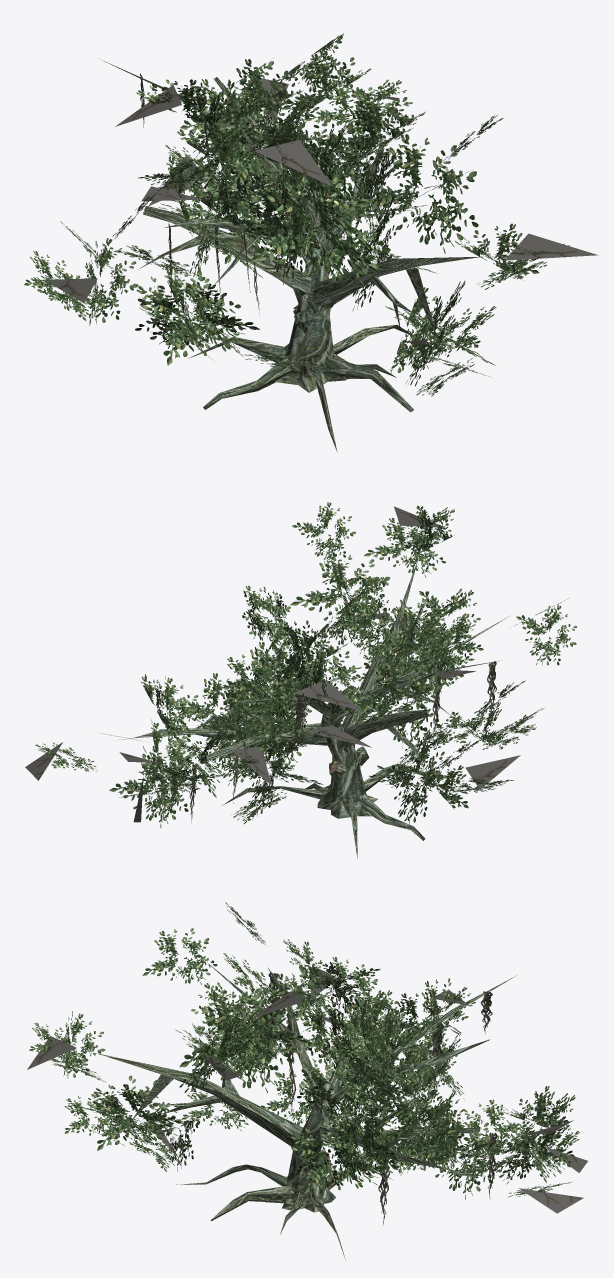
Rendered from tree03.FBX.
The picture shows the model from 3 angles, top to bottom: view 1: azimuth 30°, elevation 25°; view 2: azimuth 150°, elevation 25°; view 3: azimuth 270°, elevation 25°; orthographic projection. The views are drawn at different scales.
Visible parts, largest first — view 1: objmesh_SampleLeaves_022, objmesh_dashu022, objmesh_Branches_012, objmesh_Vines_022; view 2: objmesh_SampleLeaves_022, objmesh_dashu022, objmesh_Branches_012, objmesh_Vines_022; view 3: objmesh_SampleLeaves_022, objmesh_dashu022, objmesh_Branches_012, objmesh_Vines_022.
Part boxes in pixels (left/top/right/bottom): objmesh_SampleLeaves_022: left=24, top=33, right=569, bottom=396; objmesh_dashu022: left=98, top=58, right=482, bottom=452; objmesh_Branches_012: left=45, top=78, right=598, bottom=351; objmesh_Vines_022: left=140, top=73, right=355, bottom=315; objmesh_SampleLeaves_022: left=35, top=502, right=576, bottom=827; objmesh_dashu022: left=117, top=559, right=508, bottom=858; objmesh_Branches_012: left=25, top=506, right=520, bottom=822; objmesh_Vines_022: left=170, top=659, right=496, bottom=823; objmesh_SampleLeaves_022: left=29, top=902, right=579, bottom=1199; objmesh_dashu022: left=96, top=962, right=516, bottom=1260; objmesh_Branches_012: left=27, top=965, right=587, bottom=1213; objmesh_Vines_022: left=262, top=972, right=529, bottom=1225.
Bounding box in the file's own units: 32.67 × 39.46 × 19.54.
